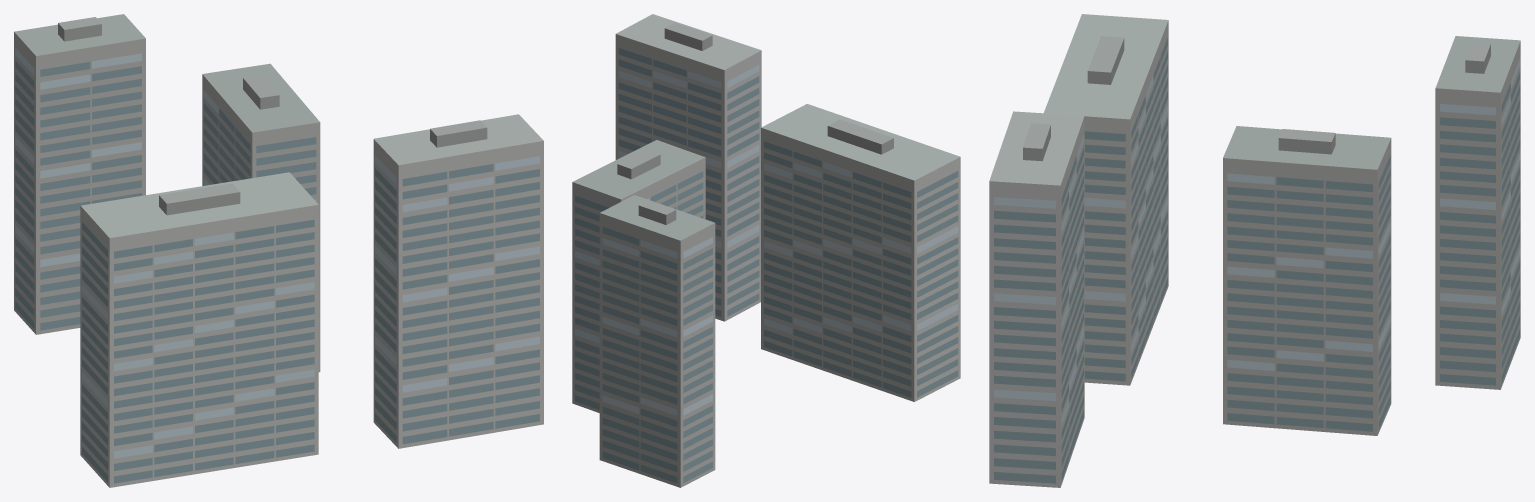
Rendered from apt-a13305002.glb.
3 renders of one model, left to right at view 1: azimuth 30°, elevation 25°; view 2: azimuth 150°, elevation 25°; view 3: azimuth 270°, elevation 25°, orthographic. The views are drawn at different scales.
Visible parts, largest first — view 1: apt-a13305002; view 2: apt-a13305002; view 3: apt-a13305002.
Part boxes in pixels (box(x1,y1,x2,y2)): apt-a13305002: box(14, 14, 543, 487); apt-a13305002: box(572, 14, 960, 487); apt-a13305002: box(989, 14, 1520, 487).
Size of the model in its own units: 86.31 by 61 by 93.34.
